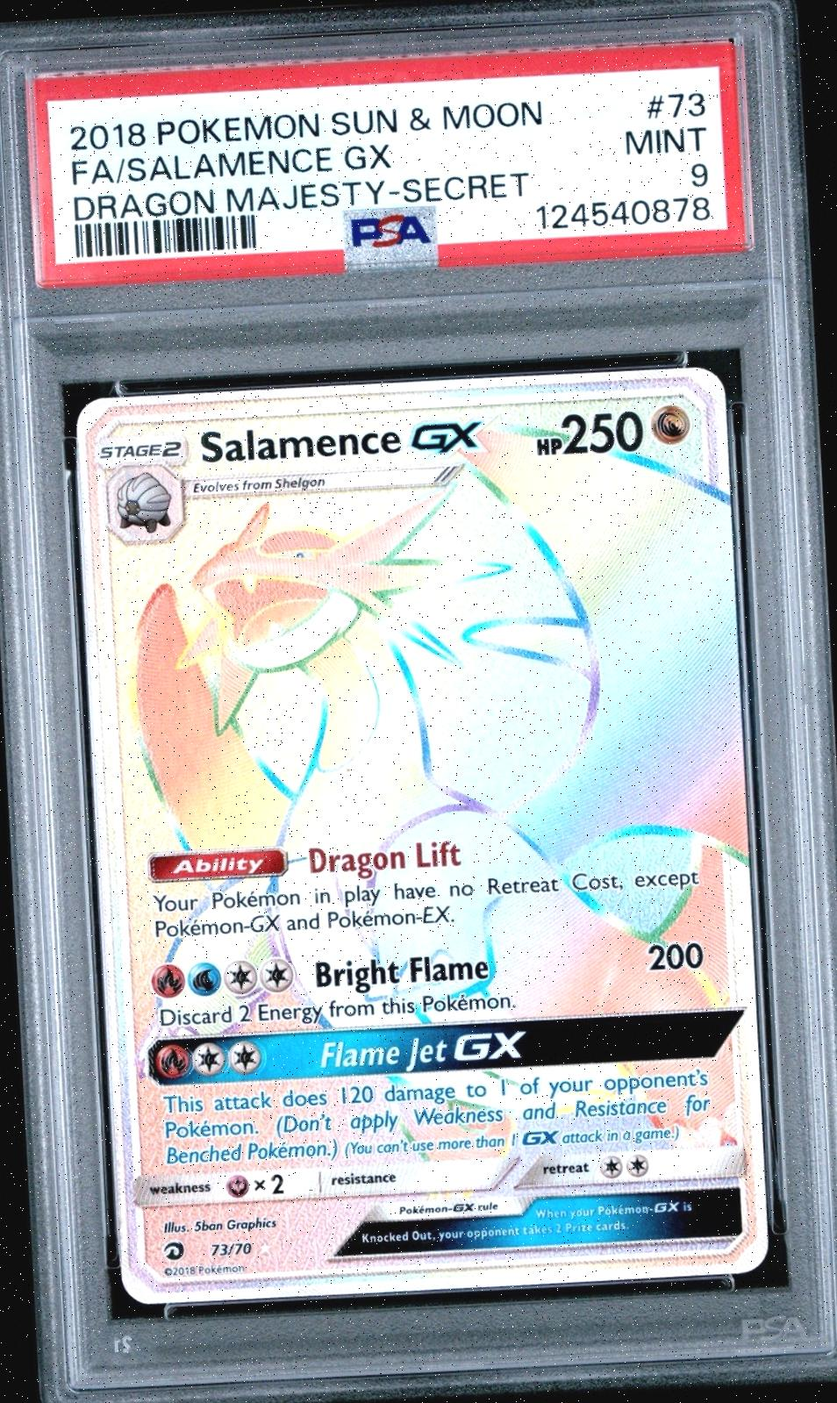card-2UtV: (75, 365, 770, 1305)
